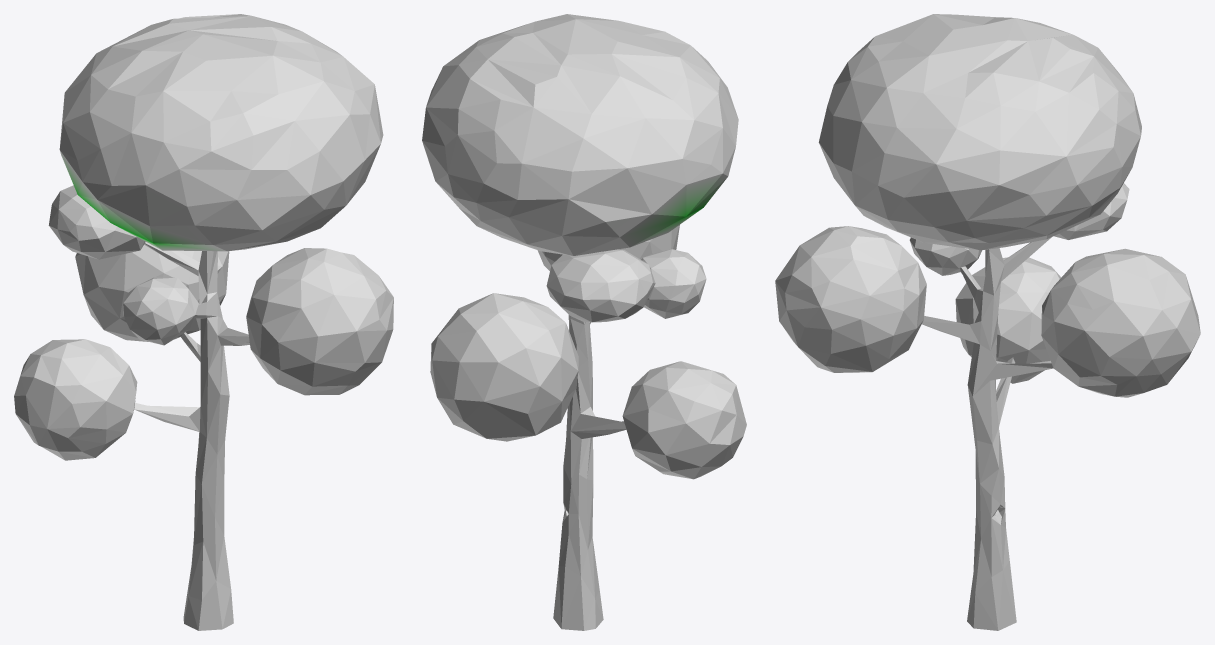
Rendered from lptreeeeeee2.fbx.
3 views of the same model, side by side, from view 1: azimuth 30°, elevation 25°; view 2: azimuth 150°, elevation 25°; view 3: azimuth 270°, elevation 25° (orthographic).
Parts seen in each view (by area): view 1: Sphere.001; view 2: Sphere.001; view 3: Sphere.001.
Boxes of the visible parts, x1,y1,x2,y2 form: Sphere.001: [14, 14, 393, 630]; Sphere.001: [422, 14, 746, 630]; Sphere.001: [775, 14, 1200, 630].
Bounding box in the file's own units: 663 × 1154 × 766.
